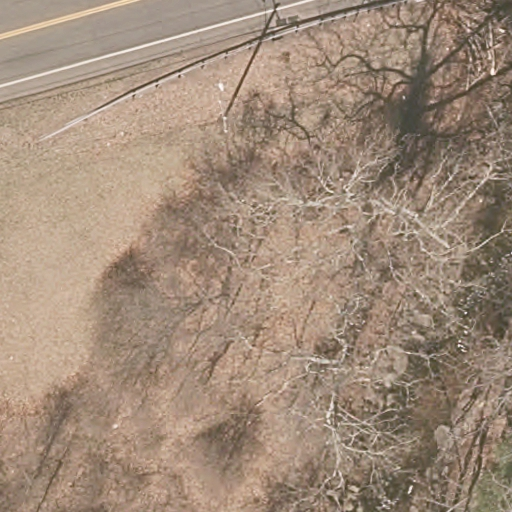DT: (216, 47, 257, 131)
